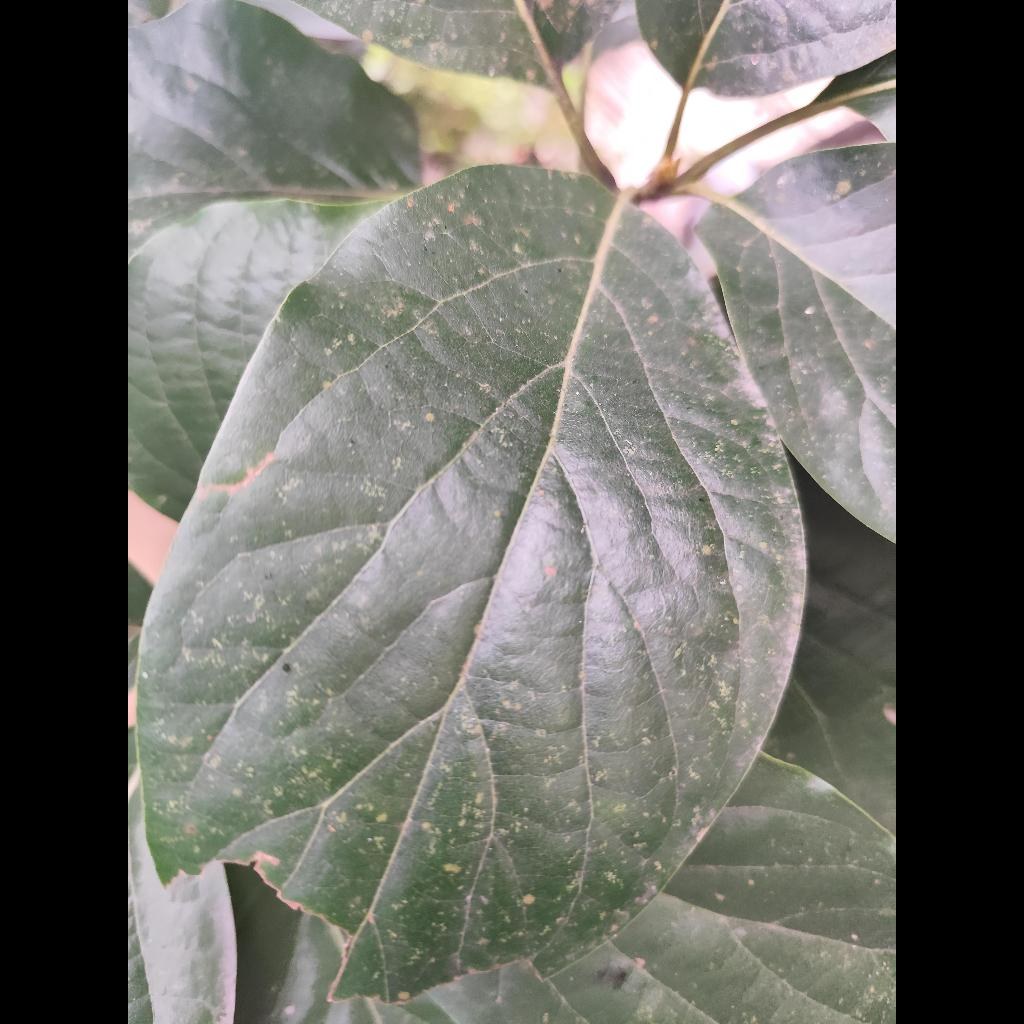antracnosis_hoja: (138, 166, 804, 1001)
